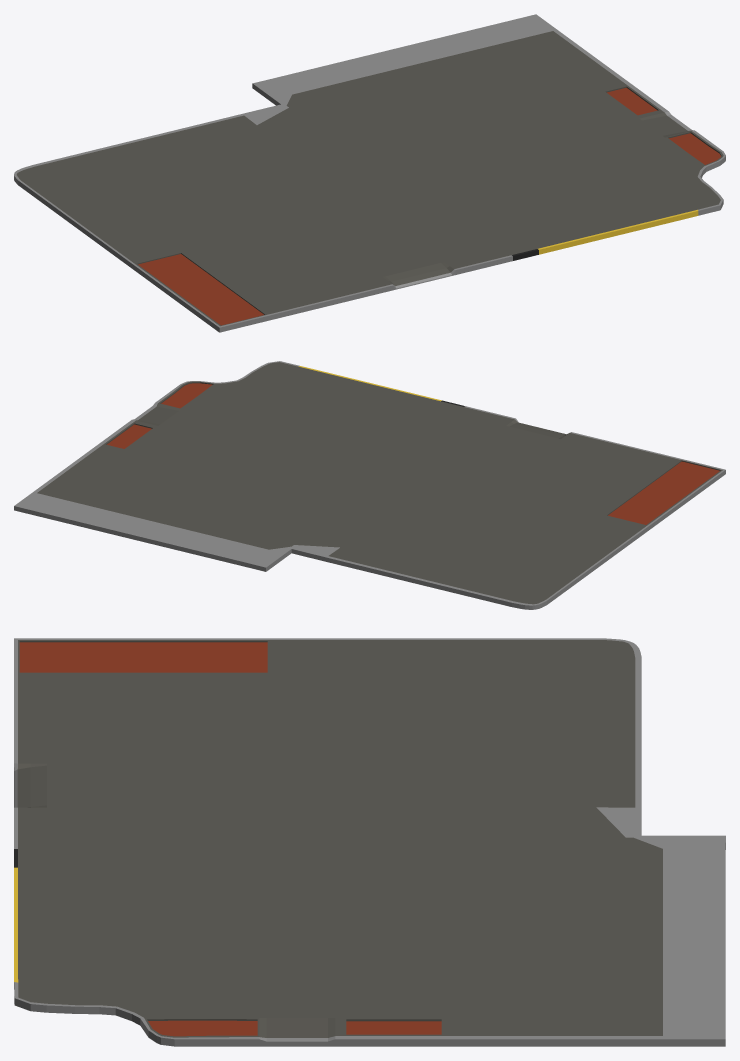
Rendered from podium.fbx.
3 renders of one model, top to bottom at view 1: azimuth 30°, elevation 25°; view 2: azimuth 150°, elevation 25°; view 3: azimuth 270°, elevation 25°, orthographic. The views are drawn at different scales.
Parts seen in each view (by area): view 1: Cube; view 2: Cube; view 3: Cube.
Part boxes in pixels (bbox=[...]): Cube: bbox=[14, 14, 725, 332]; Cube: bbox=[14, 361, 725, 609]; Cube: bbox=[14, 638, 725, 1046].
Size of the model in its own units: 6389 by 54.07 by 4796.
